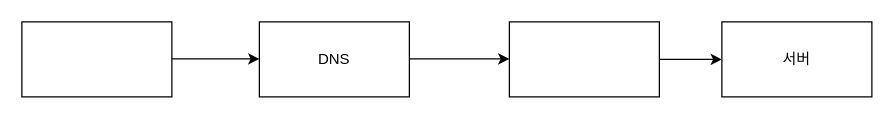
This 894x119 diagram has some shape labels left out. The centre of each missing label's shape, as x and y in pixels:
client: (96,59)
집 공유기: (583,59)
